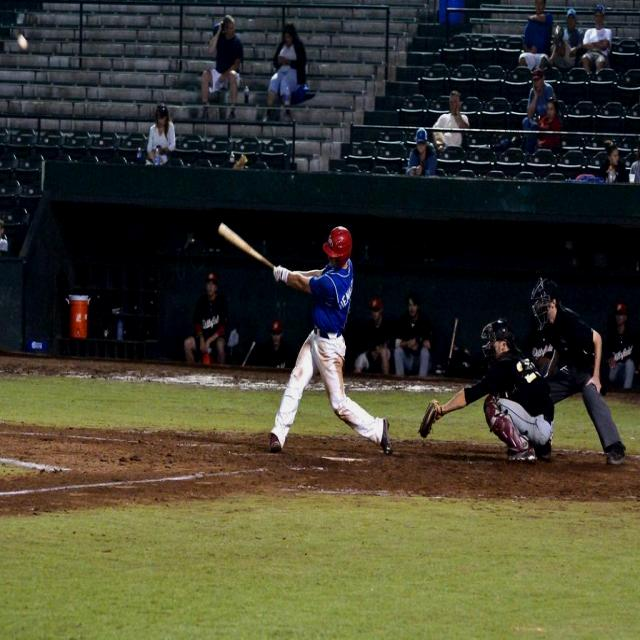baseball bat: (216, 222, 274, 268)
sports ball: (16, 34, 28, 50)
